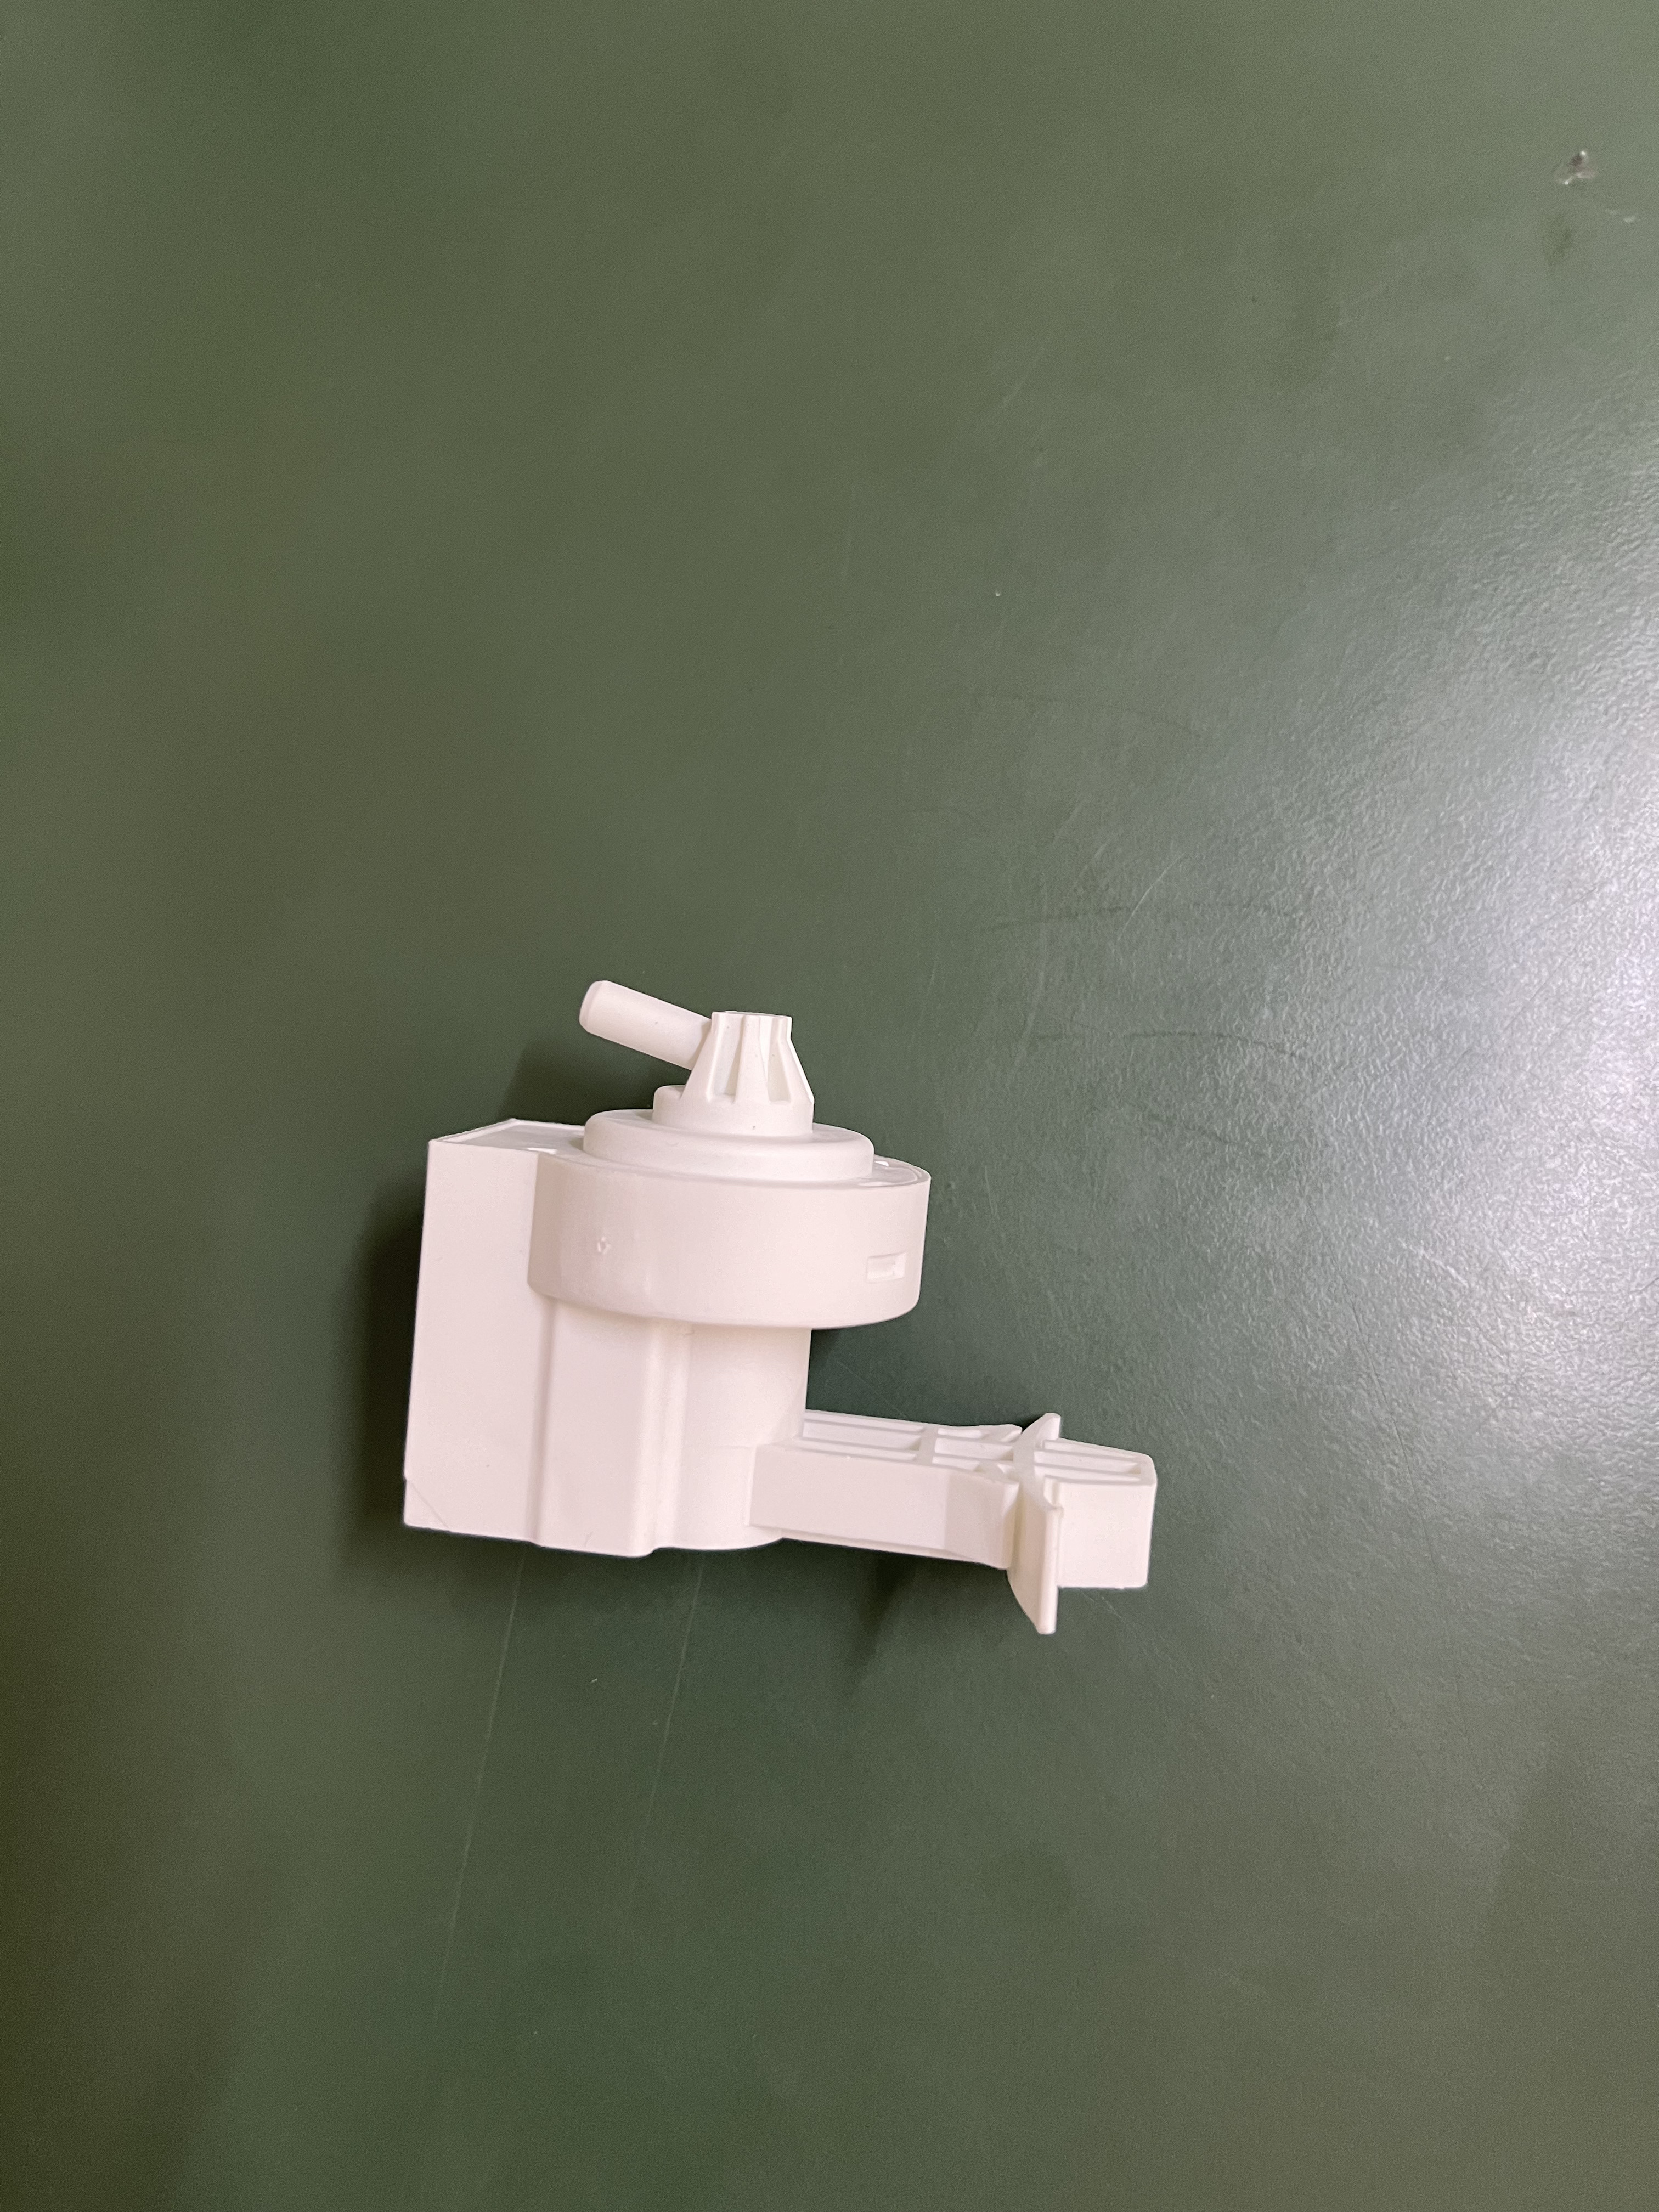pressure_switch_1: (373, 952, 1196, 1648)
